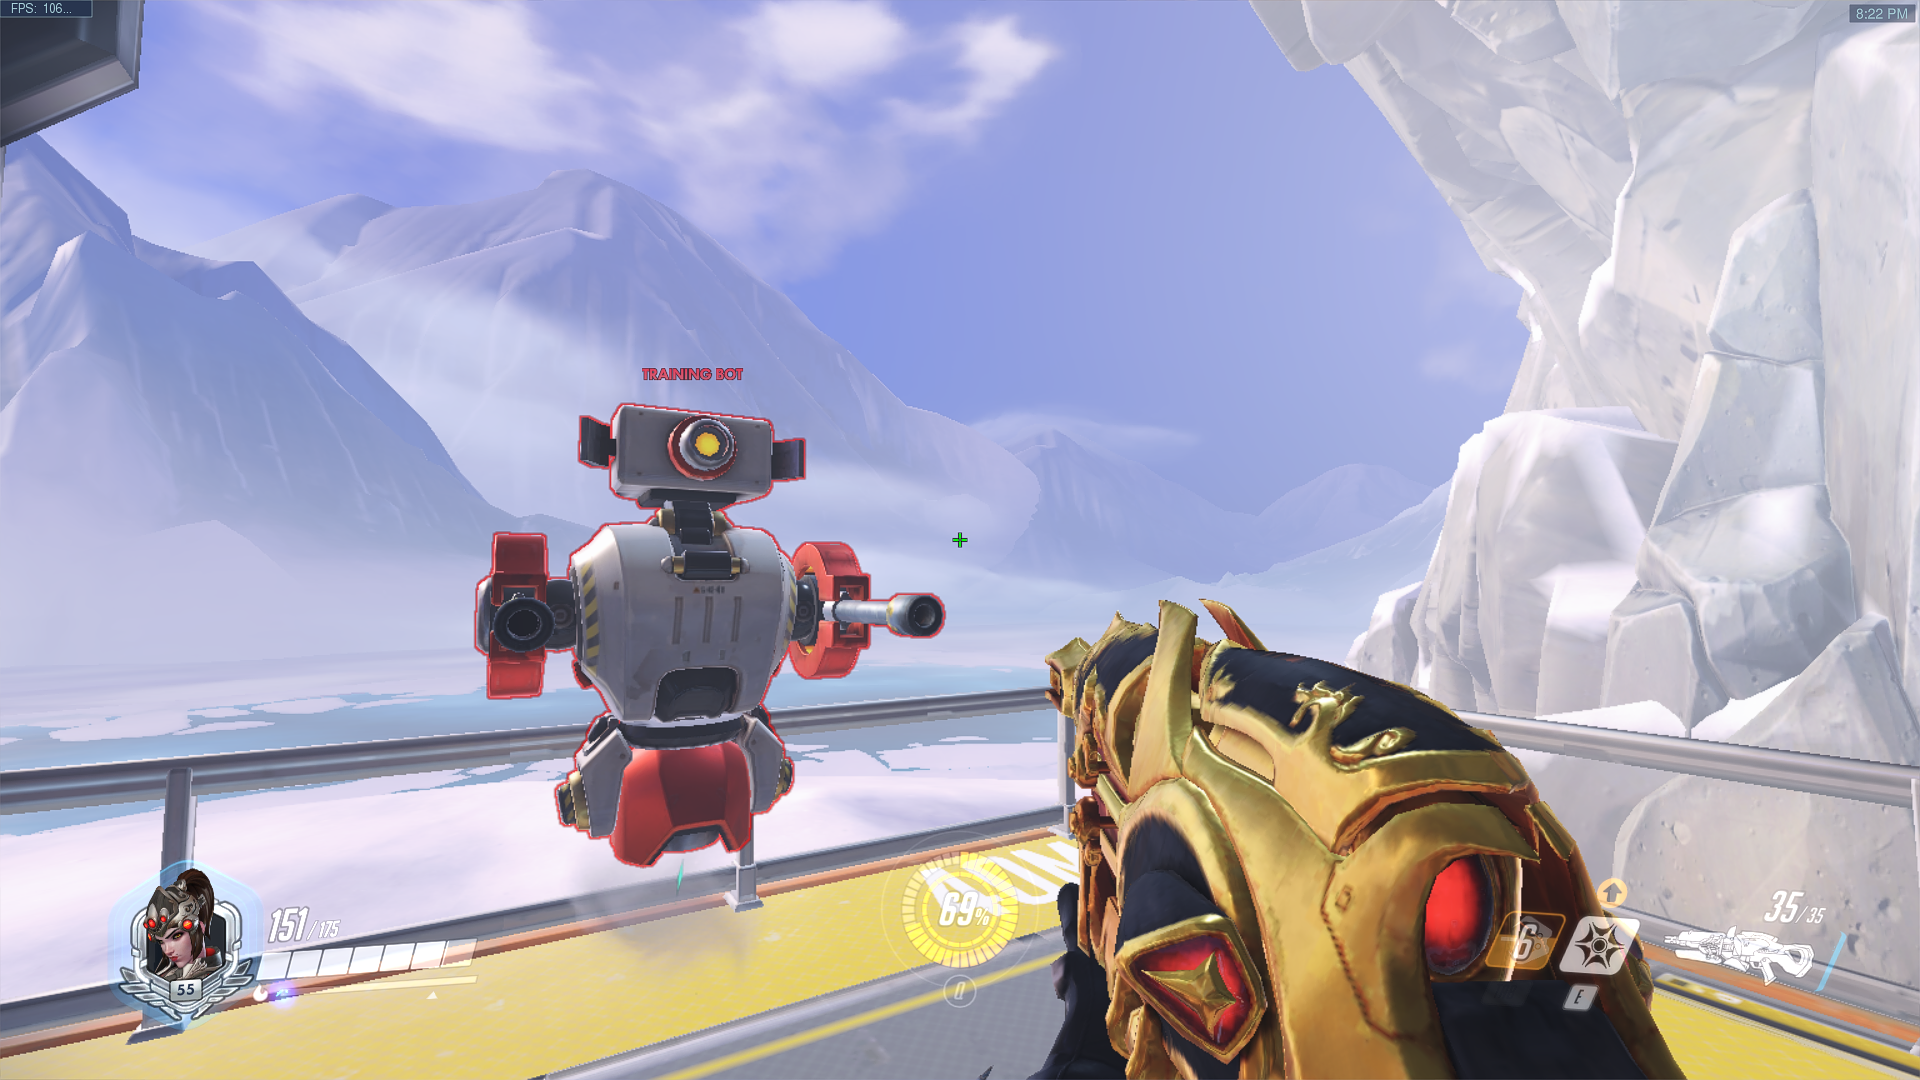head: (613, 404, 777, 506)
